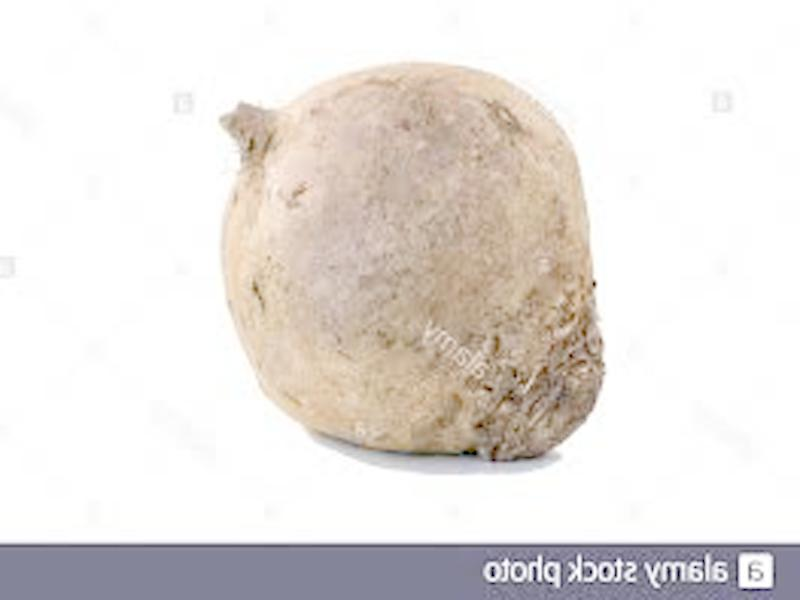Beet: (218, 62, 601, 459)
